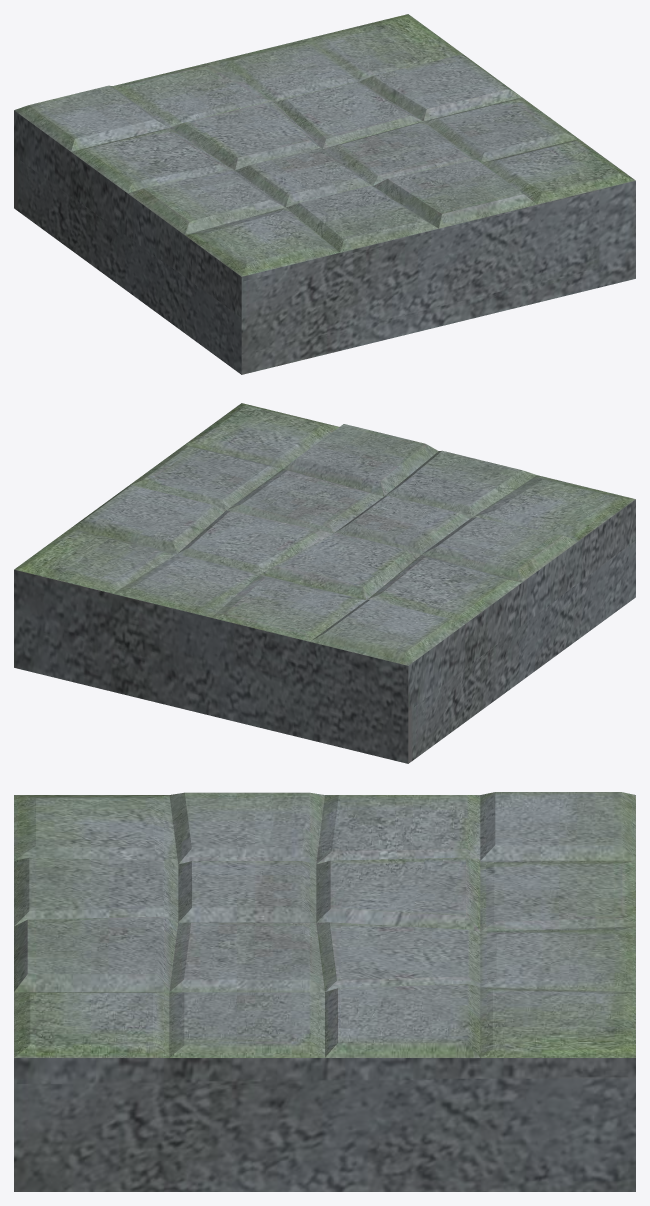
Rendered from InsetStoneFloor3.glb.
The picture shows the model from 3 angles, top to bottom: view 1: azimuth 30°, elevation 25°; view 2: azimuth 150°, elevation 25°; view 3: azimuth 270°, elevation 25°; orthographic projection. The views are drawn at different scales.
Parts seen in each view (by area): view 1: InsetStoneFloor; view 2: InsetStoneFloor; view 3: InsetStoneFloor.
Boxes of the visible parts, left/top/right/bottom form: InsetStoneFloor: left=14, top=14, right=635, bottom=374; InsetStoneFloor: left=14, top=403, right=635, bottom=763; InsetStoneFloor: left=14, top=792, right=635, bottom=1191.
Size of the model in its own units: 2 by 0.5191 by 2.
1 material, 1 textured.
